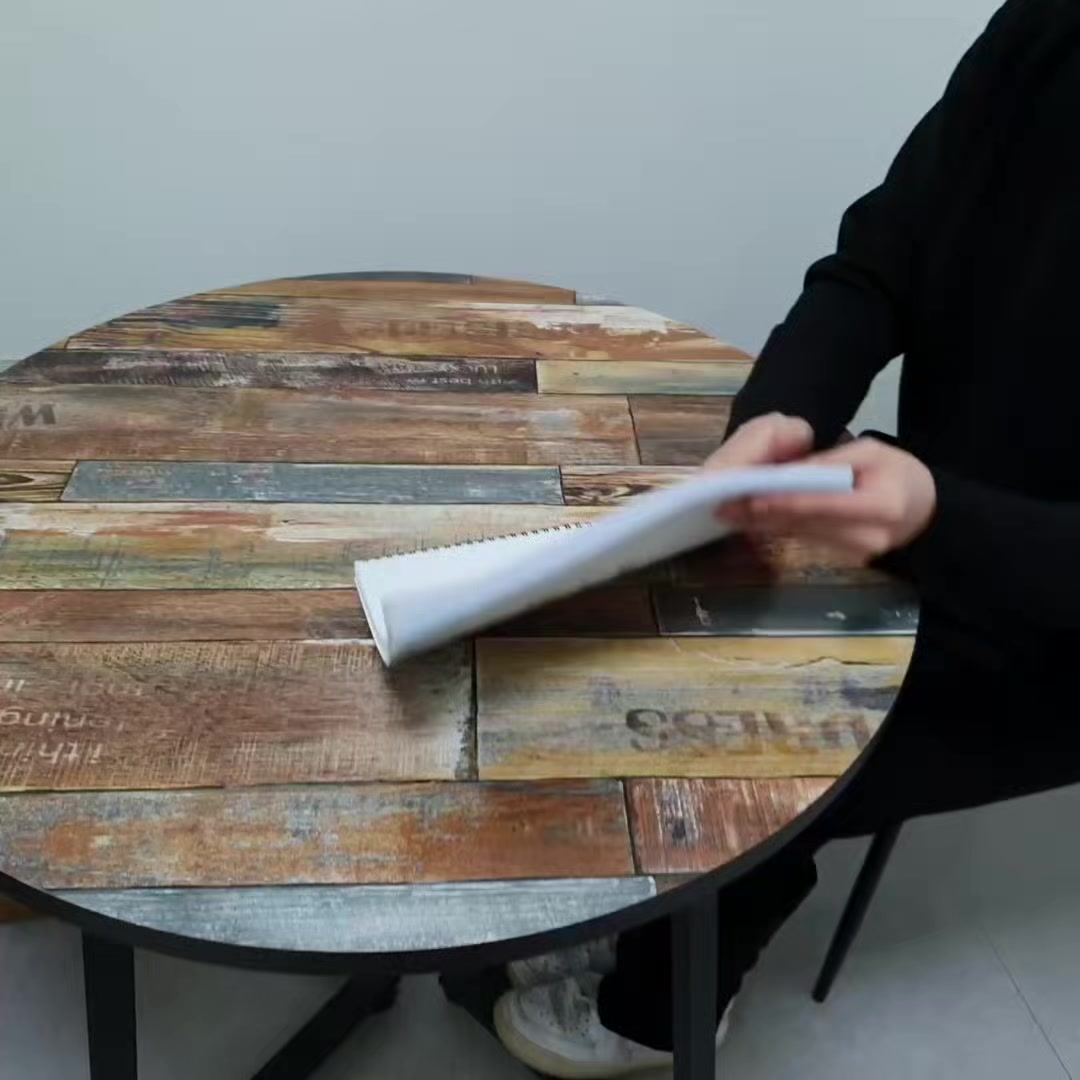book: (351, 434, 881, 703)
